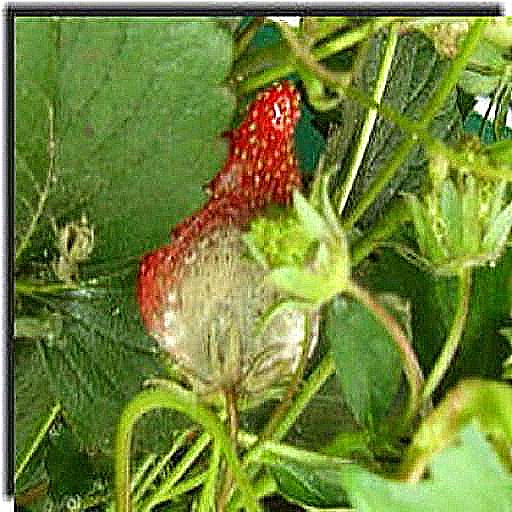Gray Mold: (193, 118, 369, 320)
